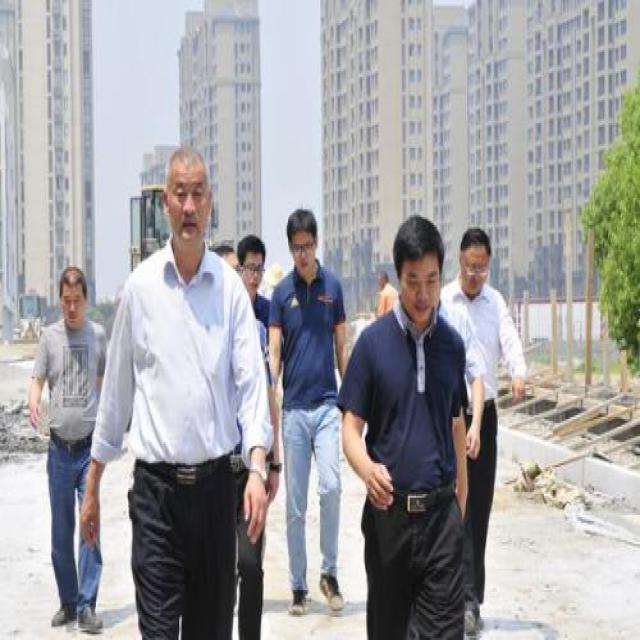head: (158, 143, 220, 253), (392, 213, 451, 317), (278, 203, 326, 278), (457, 220, 496, 299), (51, 262, 91, 328), (234, 228, 268, 289)
person: (96, 134, 277, 631), (340, 207, 482, 631), (260, 199, 365, 620), (438, 215, 535, 640), (25, 259, 120, 636)
